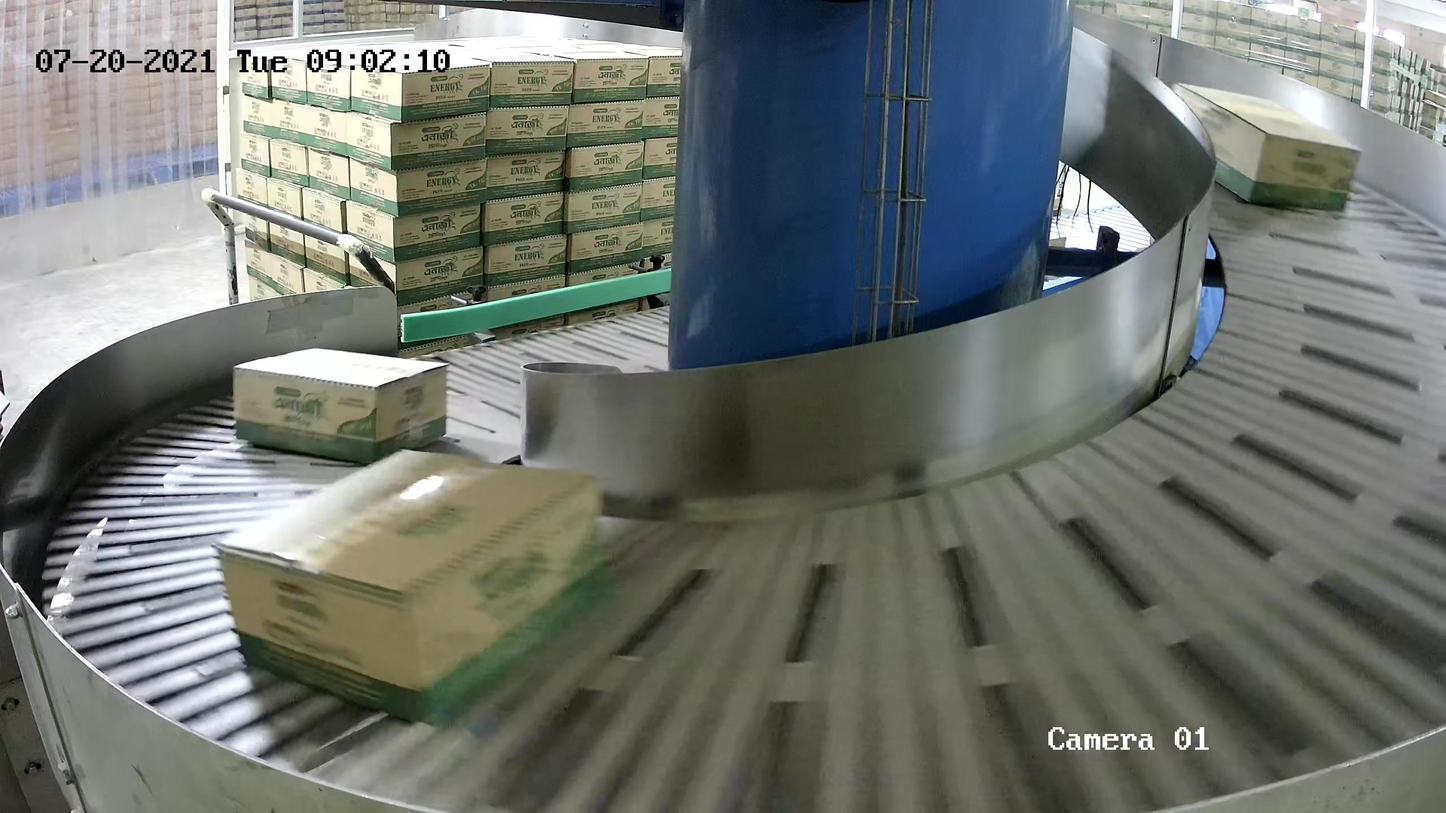Box: (212, 445, 612, 727), (231, 347, 451, 464), (1170, 81, 1363, 211)
